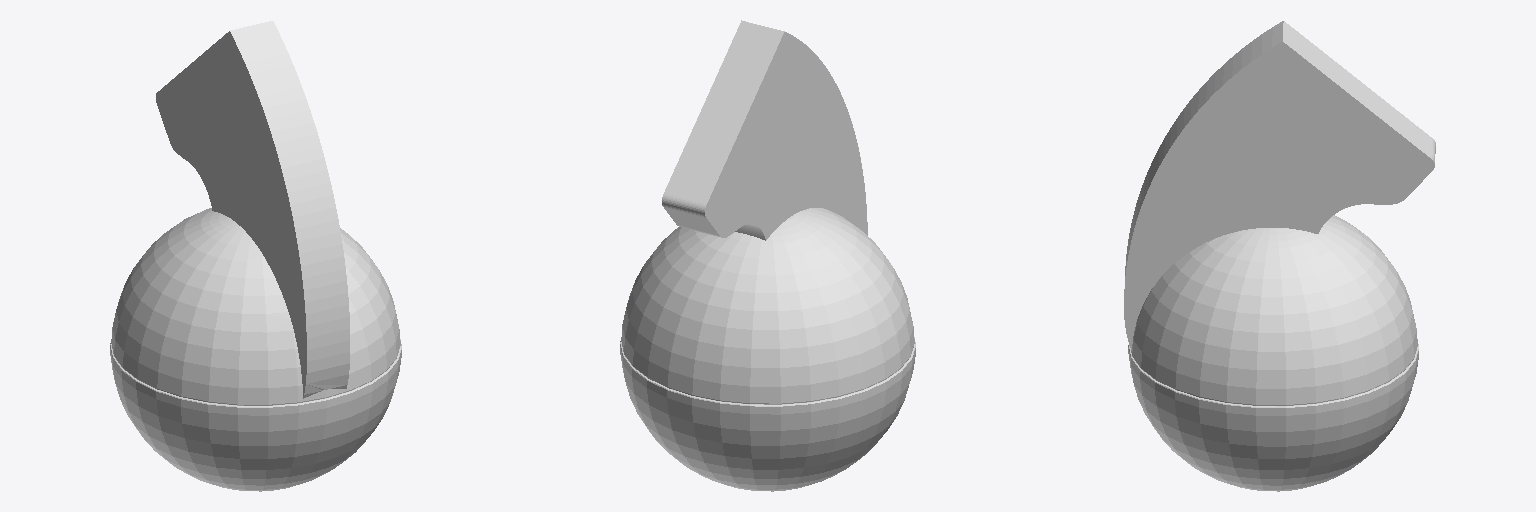
robot.urdf — knight_w:
<?xml version="1.0"?>
<robot name="knight_w">
  <link name="base_link">
    <visual>
      <origin xyz="0 0 0" rpy="0 0 0"/>
      <geometry>
        <mesh filename="./meshes/Knight.stl" scale="0.003 0.003 0.003"/>
      </geometry>
      <material name="piece_material">
        <color rgba="0.9 0.9 0.9 1.0"/>
      </material>
    </visual>
    <collision>
      <origin xyz="0 0 0.025" rpy="0 0 0"/>
      <geometry>
        <cylinder radius="0.012" length="0.05"/>
      </geometry>
    </collision>
    <inertial>
      <origin xyz="0 0 0.025" rpy="0 0 0"/>
      <mass value="0.04"/> <!-- 40 grams, or adjust -->
      <inertia
        ixx="0.00005" ixy="0.0" ixz="0.0"
        iyy="0.00005" iyz="0.0"
        izz="0.00001"/>
    </inertial>
  </link>
</robot>

--- What the picture shows (computed from the rendered views, not written in the file) ---
The picture shows the robot from 3 angles, left to right: view 1: azimuth 30°, elevation 25°; view 2: azimuth 150°, elevation 25°; view 3: azimuth 270°, elevation 25°; orthographic projection.
Robot: knight_w — 1 links, 0 joints (none); root link base_link; default pose: every joint at zero.
Visible links, largest first — view 1: base_link; view 2: base_link; view 3: base_link.
Boxes of the visible links, bbox=[...] form: base_link: bbox=[110, 21, 401, 491]; base_link: bbox=[620, 20, 915, 491]; base_link: bbox=[1124, 21, 1435, 491].
Bounding box of the posed robot: 0.0522 × 0.0561 × 0.0888 m (x, y, z).
Meshes: 1 distinct files referenced, 1 mesh visuals loaded (1 binary STL).
